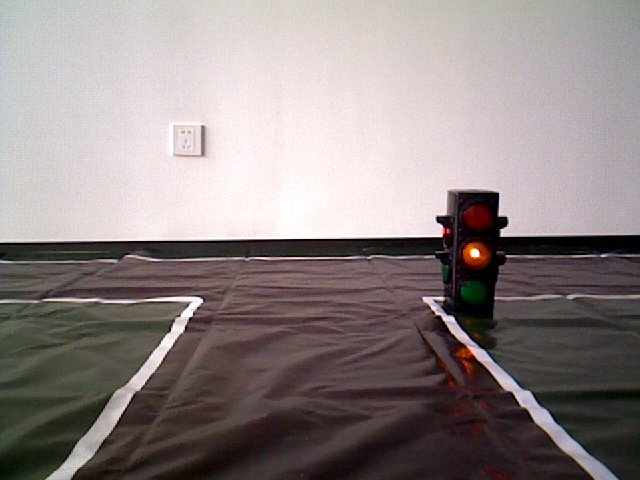yellow: (451, 186, 496, 309)
